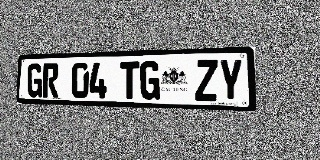0: (71, 62, 89, 98)
4: (89, 62, 107, 99)
G: (140, 61, 160, 100), (27, 64, 43, 97)
R: (42, 63, 59, 98)
T: (120, 61, 139, 99)
Y: (219, 59, 243, 102)
Z: (195, 60, 218, 101)
